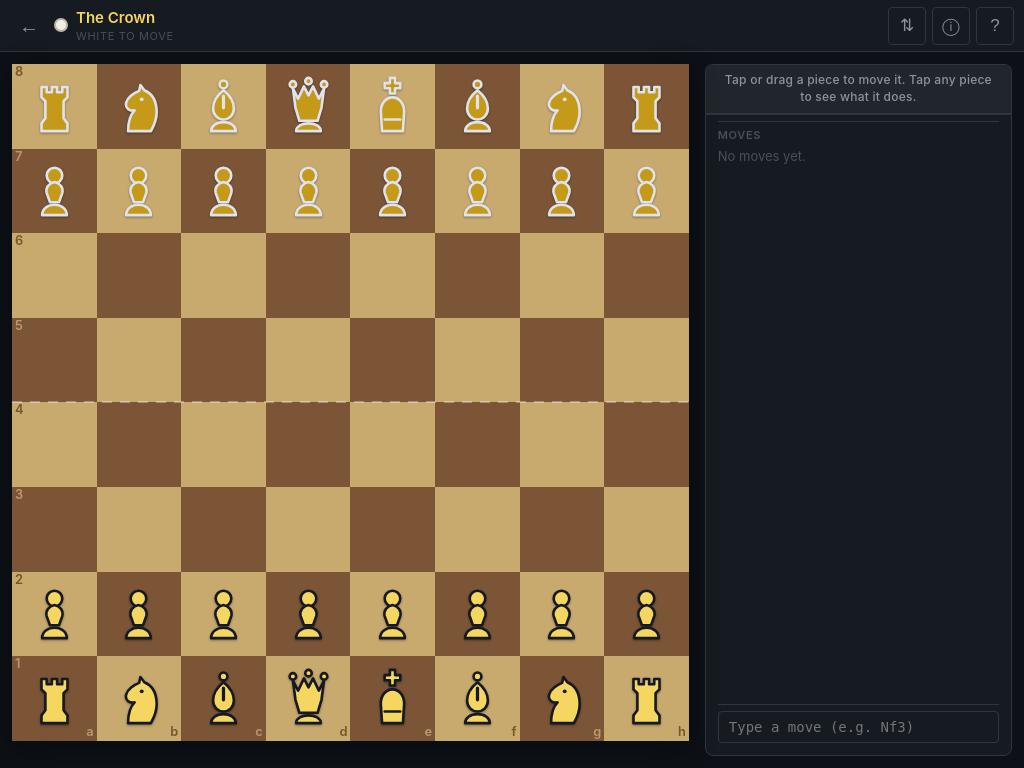
Test: tap-to-inspect › tapping the selected piece again deselects it
Click the cell "1 a" at coordinates (54, 698), box [12,656,97,741]
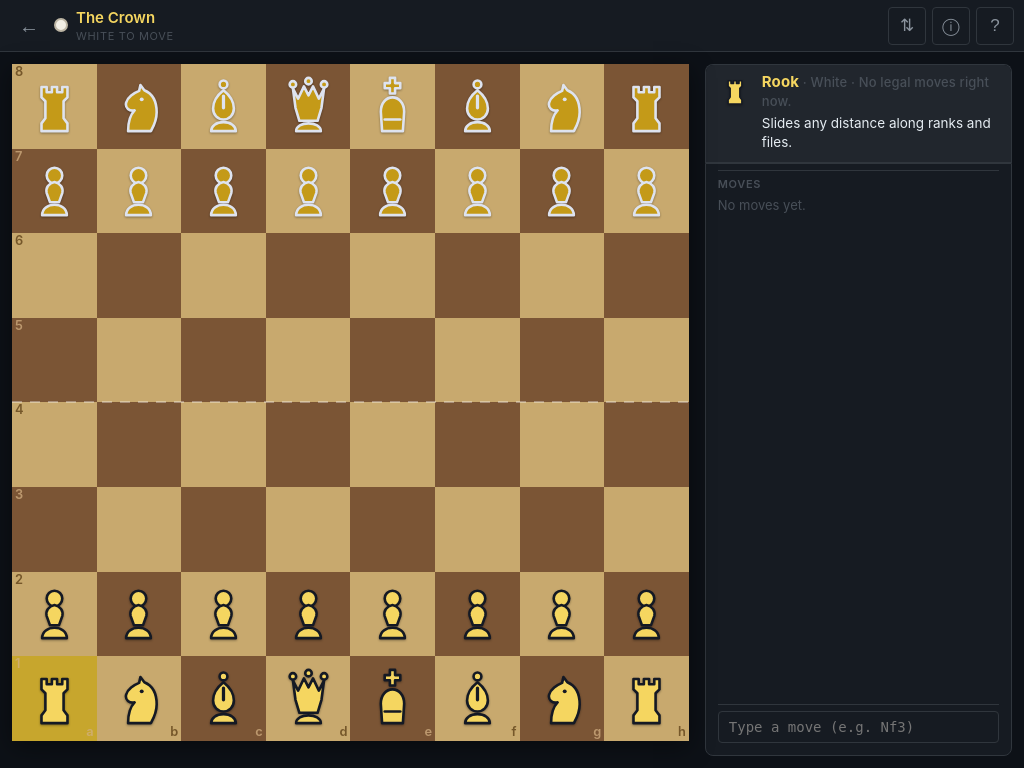
Check: the element with test id "piece-info" is shown, box [706,65,1011,163]
Click the cell "1 a" at coordinates (54, 698), box [12,656,97,741]
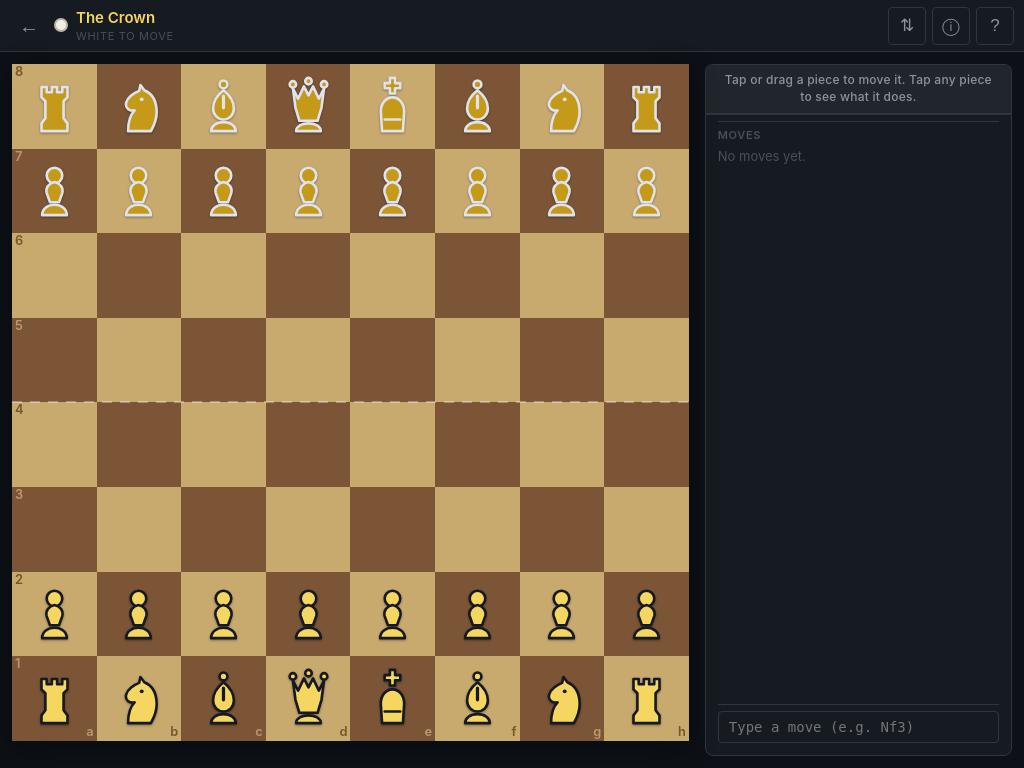
Check: the element with test id "piece-info" is gone
